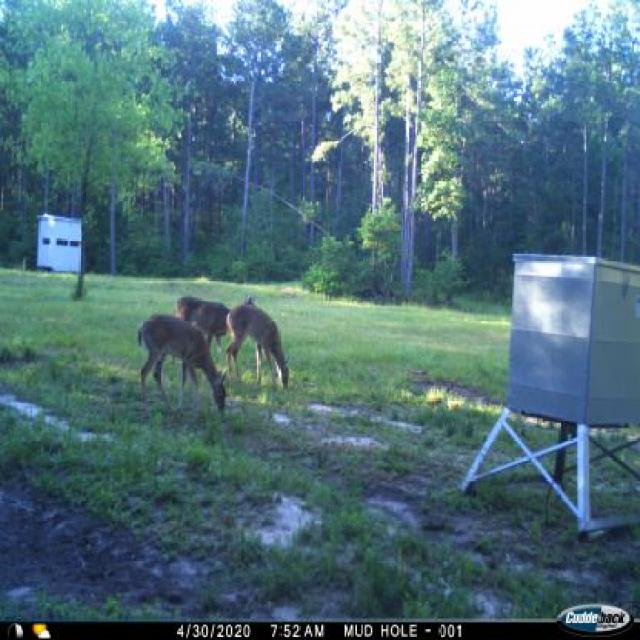Deer: (135, 309, 228, 423), (228, 304, 292, 396), (172, 295, 231, 363)
